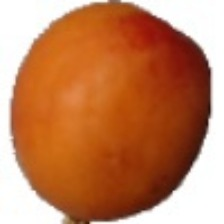apricot: (22, 26, 160, 222)
